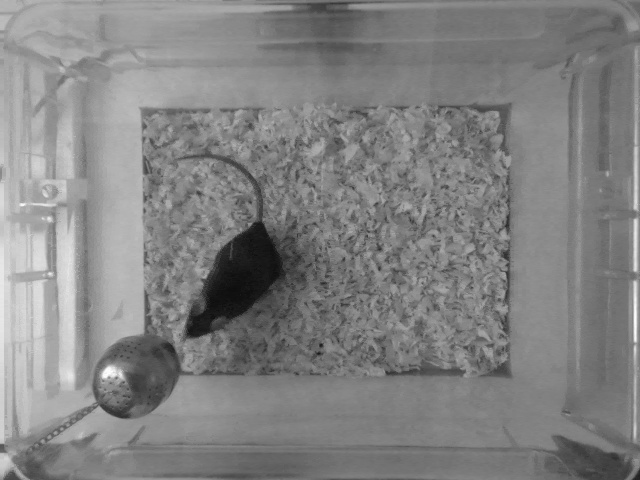mice: (173, 153, 291, 346)
